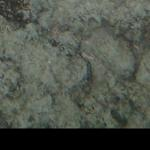dead: (1, 1, 148, 126)
